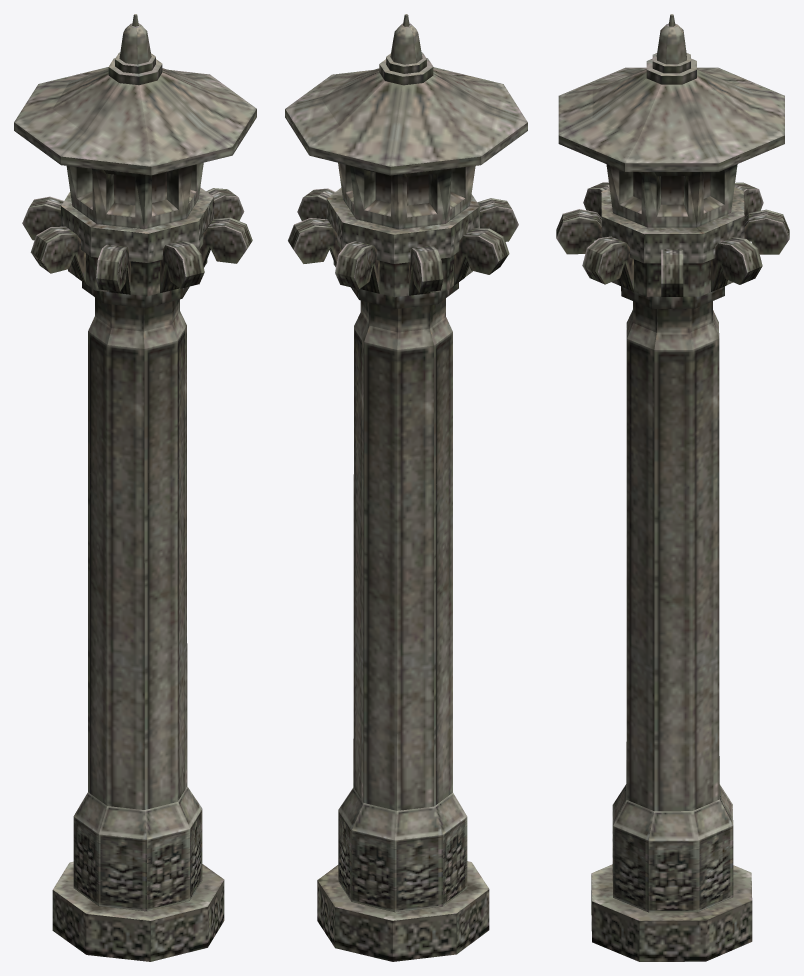
Rendered from b1_018-stonelight.glb.
The picture shows the model from 3 angles, left to right: view 1: azimuth 30°, elevation 25°; view 2: azimuth 150°, elevation 25°; view 3: azimuth 270°, elevation 25°; orthographic projection.
Visible parts, largest first — view 1: b1-018-stonelight-01; view 2: b1-018-stonelight-01; view 3: b1-018-stonelight-01.
Boxes of the visible parts, x1,y1,x2,y2 form: b1-018-stonelight-01: (14, 14, 256, 961); b1-018-stonelight-01: (285, 14, 527, 961); b1-018-stonelight-01: (556, 14, 789, 961).
Size of the model in its own units: 2.05 by 8.85 by 2.05.
Materials: 1 (1 with a texture image).
